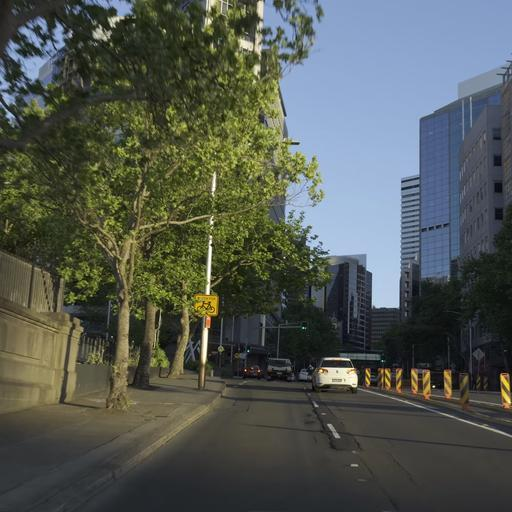Street light: (196, 135, 300, 389), (444, 308, 473, 386), (300, 320, 307, 331)
